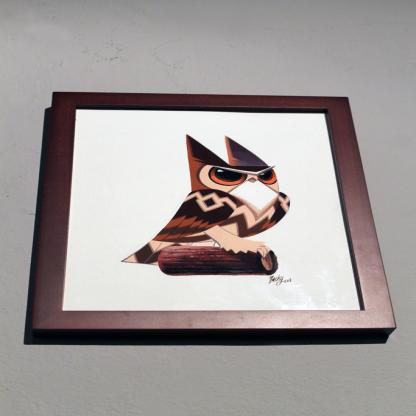Picture-frame: (29, 93, 399, 333)
